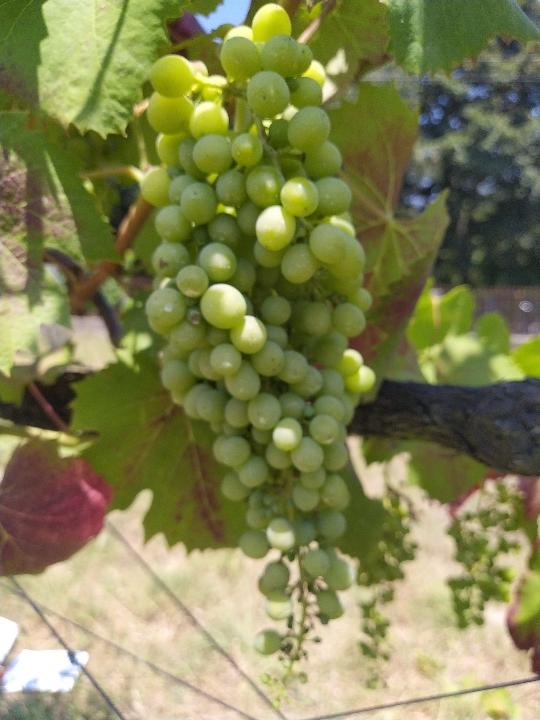grape: (138, 3, 378, 715)
